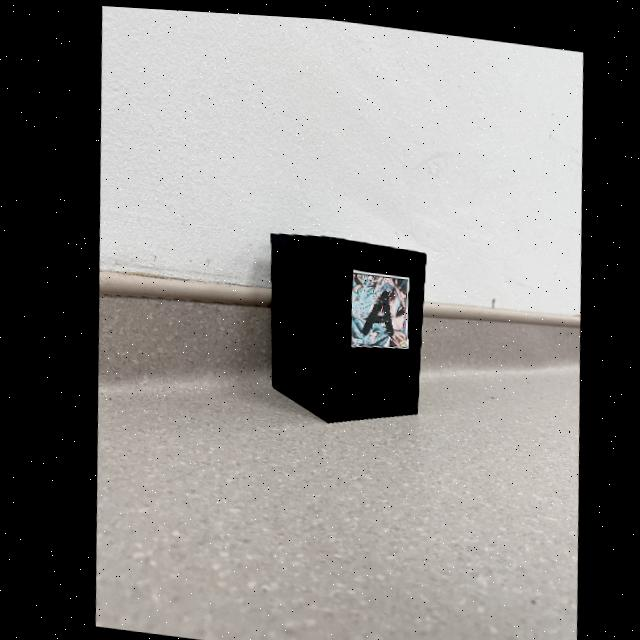A: (358, 286, 389, 333)
